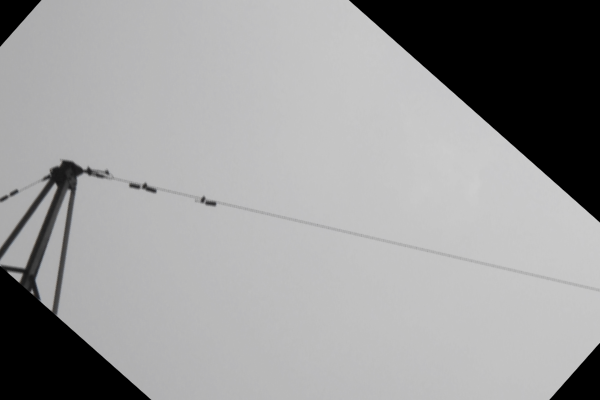damper: (126, 181, 158, 193)
damper_defect: (190, 194, 218, 207)
